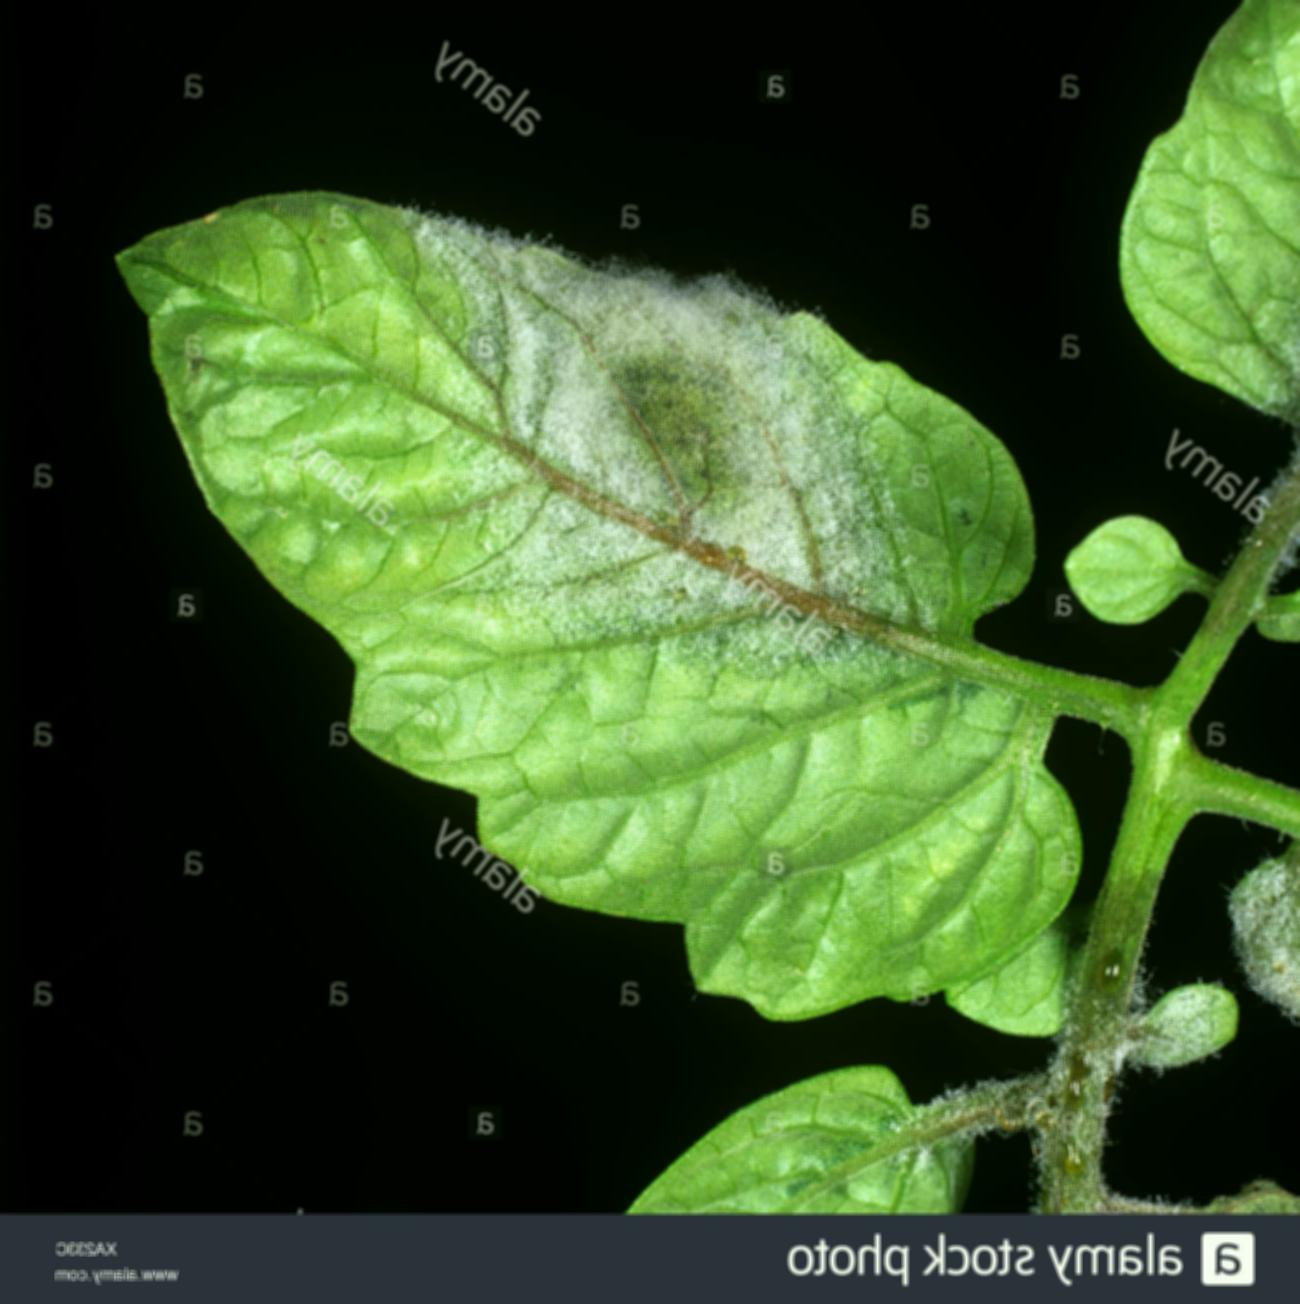Tomato leaf late blight: (94, 171, 1126, 1030)
